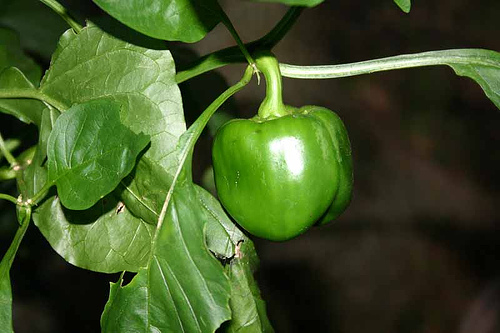capsicum: (209, 53, 355, 247)
